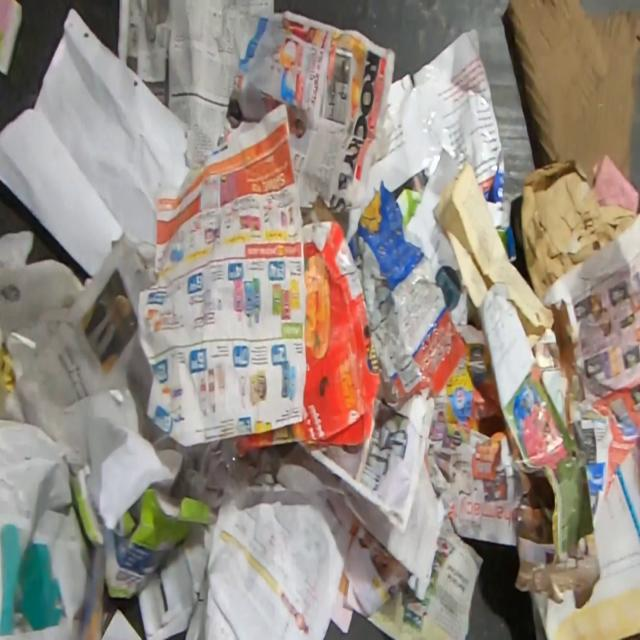cardboard: (234, 220, 380, 456), (347, 179, 469, 400), (505, 0, 640, 189), (67, 459, 221, 601)
